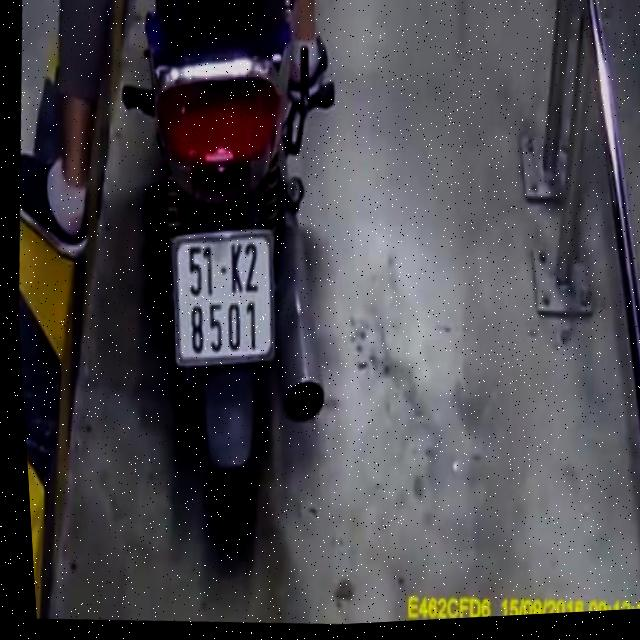motorcycle: (75, 0, 378, 580)
plate: (152, 216, 287, 374)
